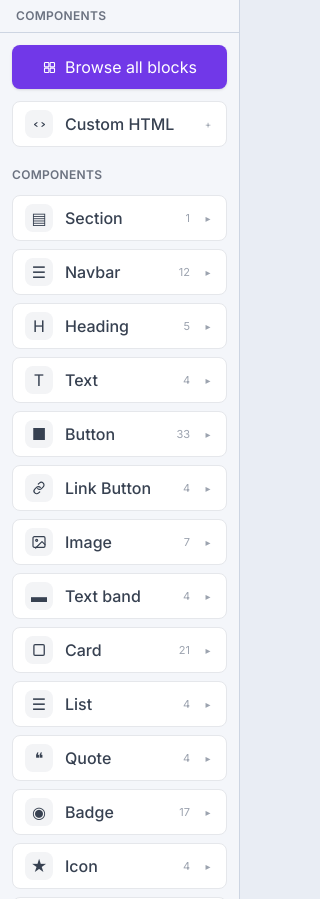
Test case: Sidebar component recommendations › shows the recommended Bootstrap navbar inside the Navbar variants
The width and height of the screenshot is (320, 899).
Expected: the button "Browse all blocks" is shown, [12,45,227,89]
Expected: the text "Bootstrap Navbar" is not shown
Click the button "☰ Navbar 12 ▸". click: (120, 272)
box: [13,250,226,294]
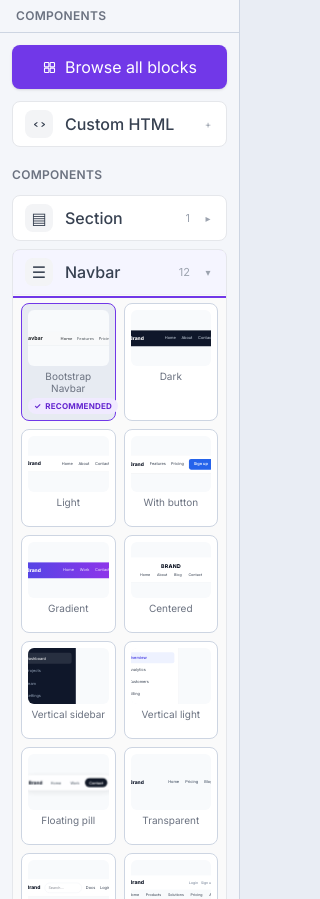
Expected: the text "Bootstrap Navbar" is shown 2 times
Expected: the text "Recommended" is shown, [45,401,112,411]
